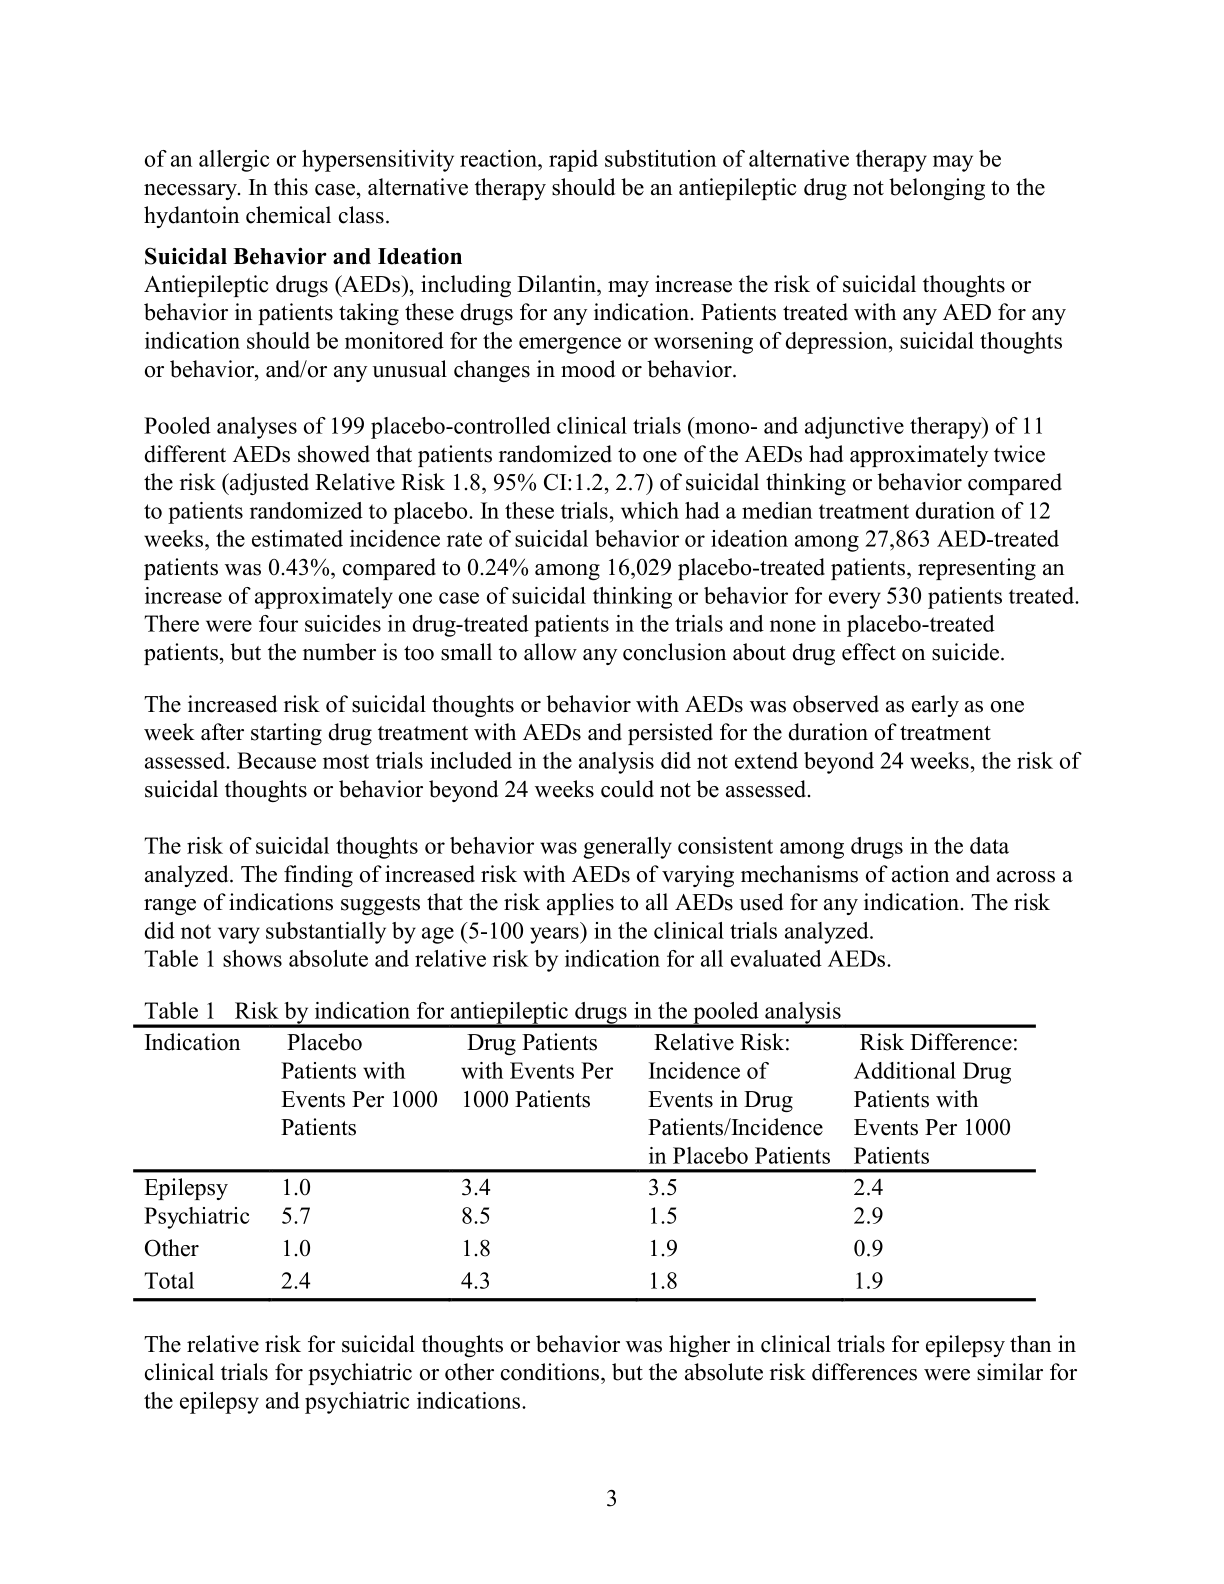partial_lined: (130, 1023, 1038, 1304)
